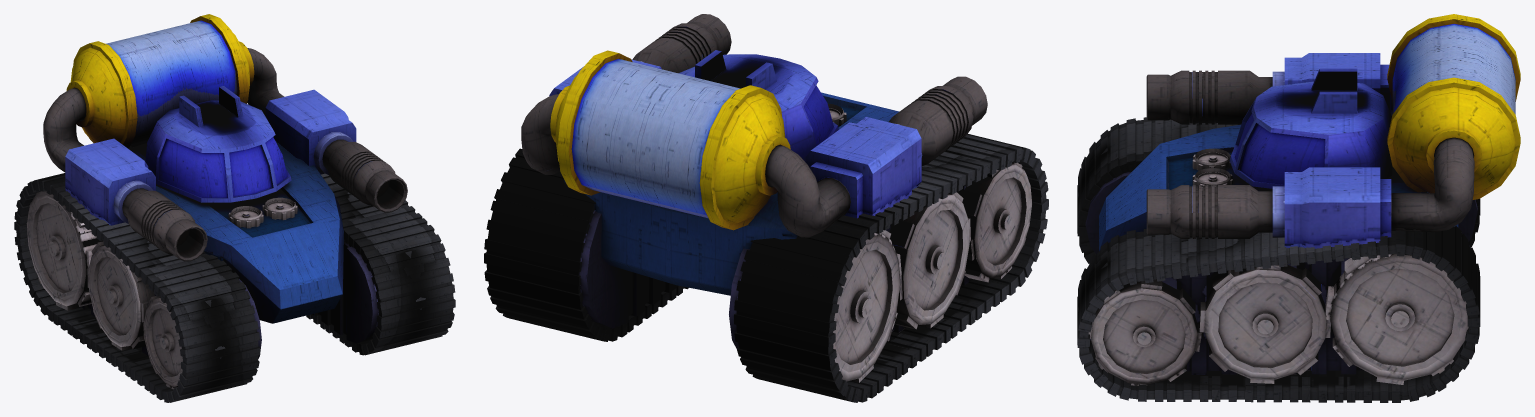
The model's file is PlayerB6.obj.
3 views of the same model, side by side, from view 1: azimuth 30°, elevation 25°; view 2: azimuth 150°, elevation 25°; view 3: azimuth 270°, elevation 25° (orthographic). The views are drawn at different scales.
Visible parts, largest first — view 1: Object001, Box042, Object004, Object003, Object002; view 2: Object001, Box042, Object003, Object004, Object002; view 3: Object001, Box042, Object004, Object003, Object002.
Boxes of the visible parts, x1,y1,x2,y2 form: Object001: (43,14,407,359); Box042: (14,173,455,402); Object004: (26,191,100,310); Object003: (87,241,154,350); Object002: (143,296,182,389); Object001: (521,14,987,348); Box042: (484,134,1048,402); Object003: (889,192,970,329); Object004: (833,230,901,382); Object002: (959,162,1031,282); Object001: (1085,14,1520,374); Box042: (1077,117,1480,402); Object004: (1325,253,1468,384); Object003: (1199,265,1330,383); Object002: (1088,279,1201,385).
Bounding box in the file's own units: 121 × 101 × 147.
Materials: 2 (2 with a texture image).
